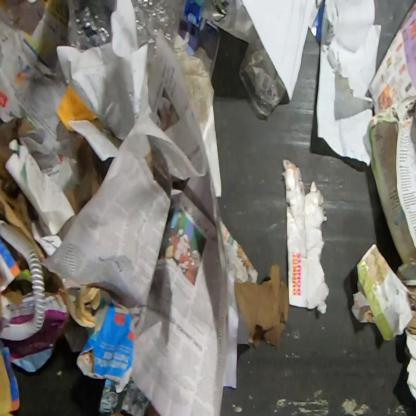cardboard: (280, 158, 330, 314), (0, 117, 47, 264), (0, 290, 70, 374), (62, 136, 104, 216), (0, 338, 22, 415), (404, 286, 416, 336)
rigid_plastic: (0, 219, 46, 342)
soft_plastic: (238, 23, 287, 118), (131, 0, 183, 73), (65, 0, 117, 52), (198, 0, 229, 26)
